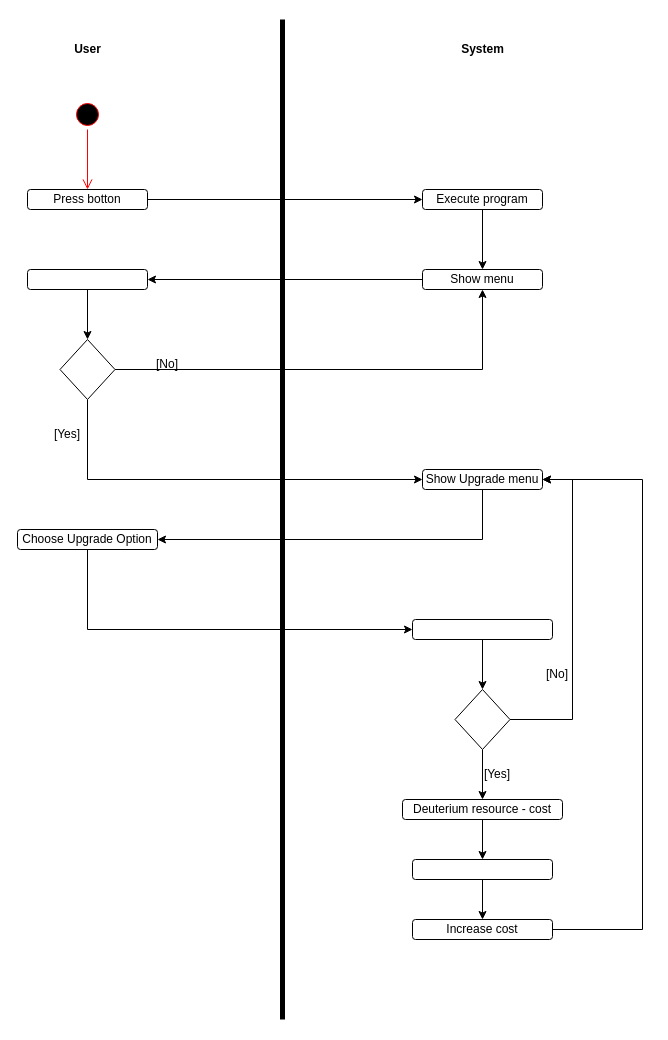
This 668x1040 diagram has some shape labels left out. Each missing label, with the centre of its shape:
"Choose Option" belongs at [87,279].
"Have cost to upgrade" belongs at [482,629].
"Upgrade + 1 lvl" belongs at [482,869].
